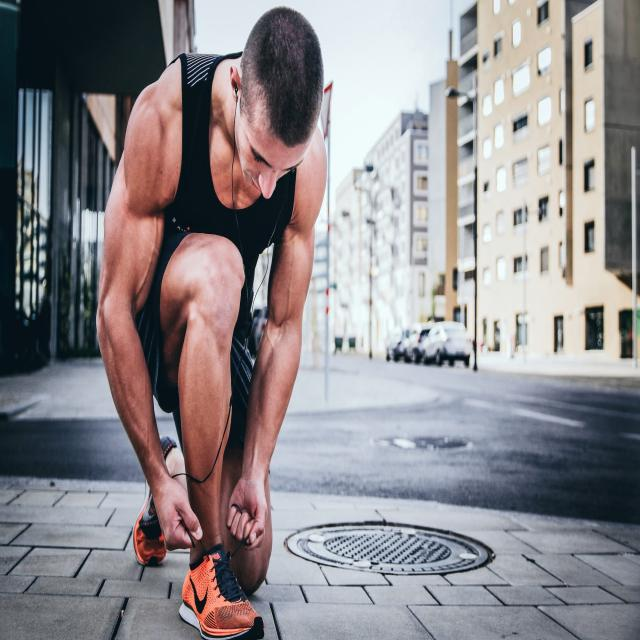adult: (97, 3, 330, 640)
